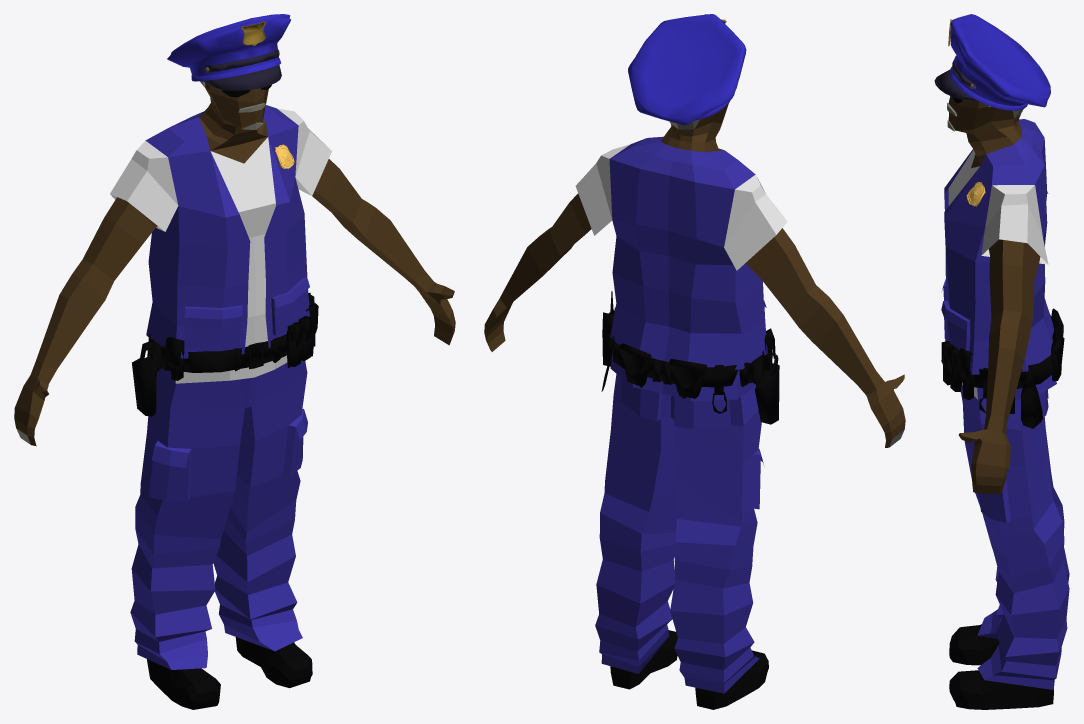
File: police1.fbx
3 renders of one model, left to right at view 1: azimuth 30°, elevation 25°; view 2: azimuth 150°, elevation 25°; view 3: azimuth 270°, elevation 25°, orthographic. The views are drawn at different scales.
Visible parts, largest first — view 1: male_02_a, Police_Hat, 1_sbbelt; view 2: male_02_a, Police_Hat, 1_sbbelt; view 3: male_02_a, Police_Hat, 1_sbbelt.
Boxes of the visible parts, x1=… form: male_02_a: x1=14, y1=81, x2=455, y2=709; Police_Hat: x1=167, y1=14, x2=290, y2=90; 1_sbbelt: x1=132, y1=292, x2=318, y2=416; male_02_a: x1=484, y1=103, x2=905, y2=709; Police_Hat: x1=628, y1=14, x2=746, y2=124; 1_sbbelt: x1=601, y1=291, x2=779, y2=424; male_02_a: x1=941, y1=96, x2=1069, y2=709; Police_Hat: x1=934, y1=14, x2=1050, y2=110; 1_sbbelt: x1=941, y1=308, x2=1064, y2=428.
Bounding box in the file's own units: 127 × 192 × 35.8.
